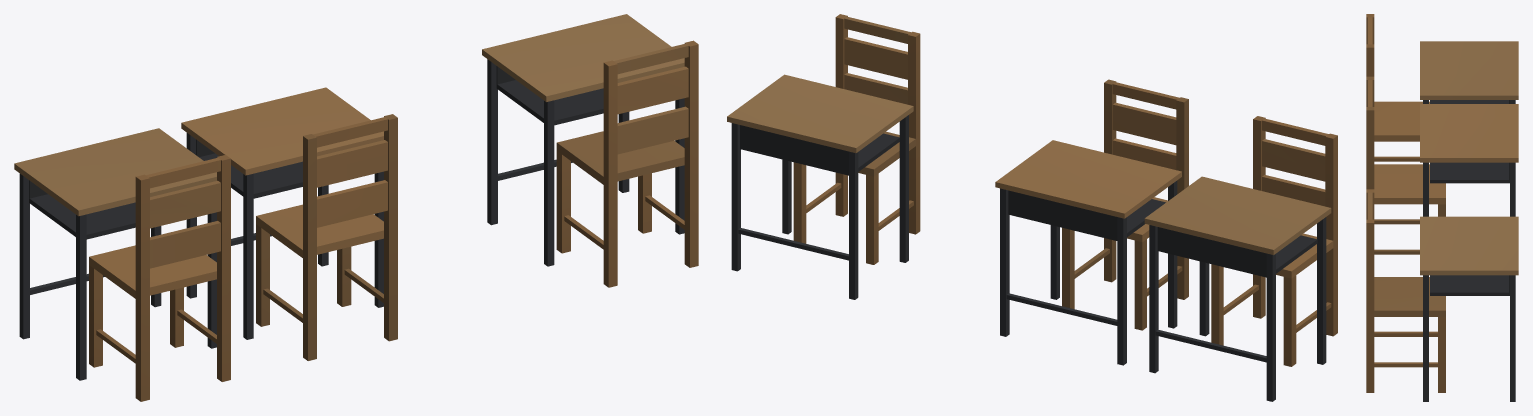
The model's file is table.school_desks_three_left.oak.glb.
The picture shows the model from 3 angles, left to right: view 1: azimuth 30°, elevation 25°; view 2: azimuth 150°, elevation 25°; view 3: azimuth 270°, elevation 25°; orthographic projection. The views are drawn at different scales.
Parts seen in each view (by area): view 1: table_school_desks_three_left_oak; view 2: table_school_desks_three_left_oak; view 3: table_school_desks_three_left_oak.
Boxes of the visible parts, left/top/right/bottom form: table_school_desks_three_left_oak: left=14, top=14, right=698, bottom=401; table_school_desks_three_left_oak: left=727, top=14, right=1337, bottom=401; table_school_desks_three_left_oak: left=1366, top=14, right=1518, bottom=401.
Size of what is drawn, in the model's own units: 2.75 by 0.95 by 0.772.
